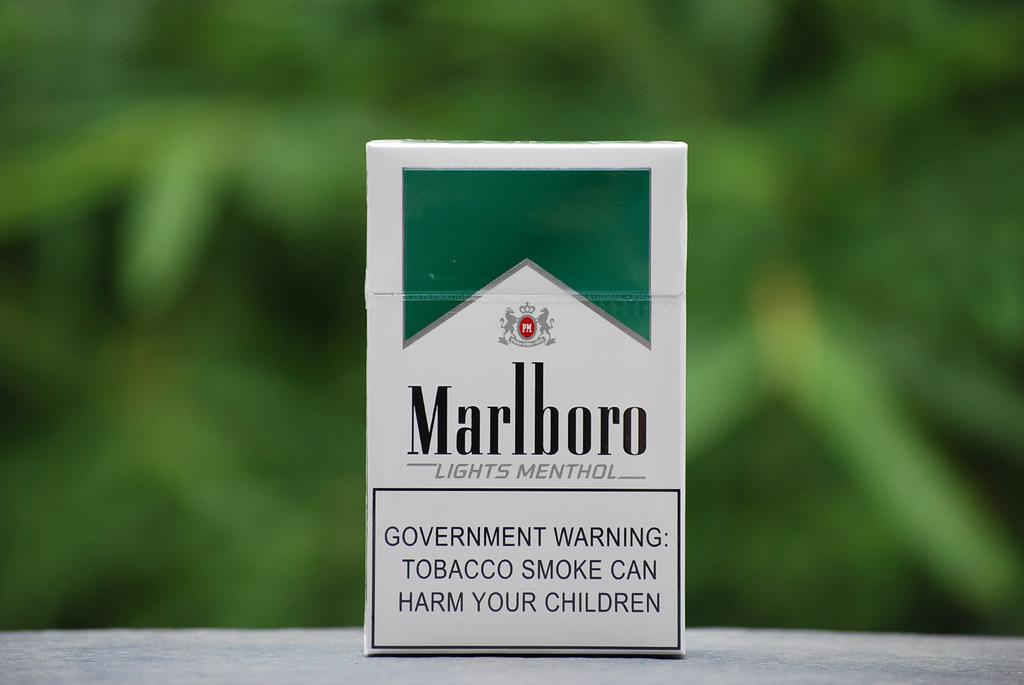marlboro_mentol: (367, 152, 679, 657)
